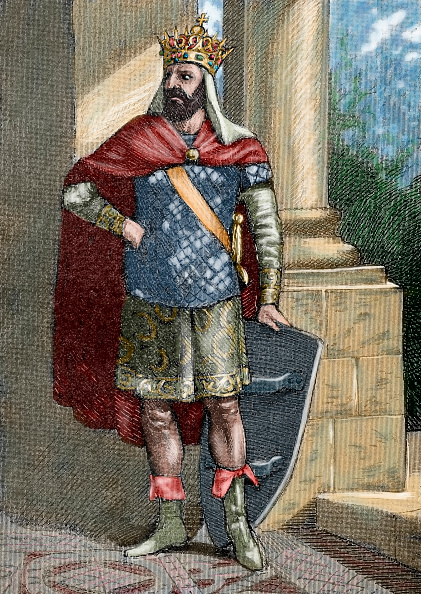em pe: (70, 36, 292, 566)
